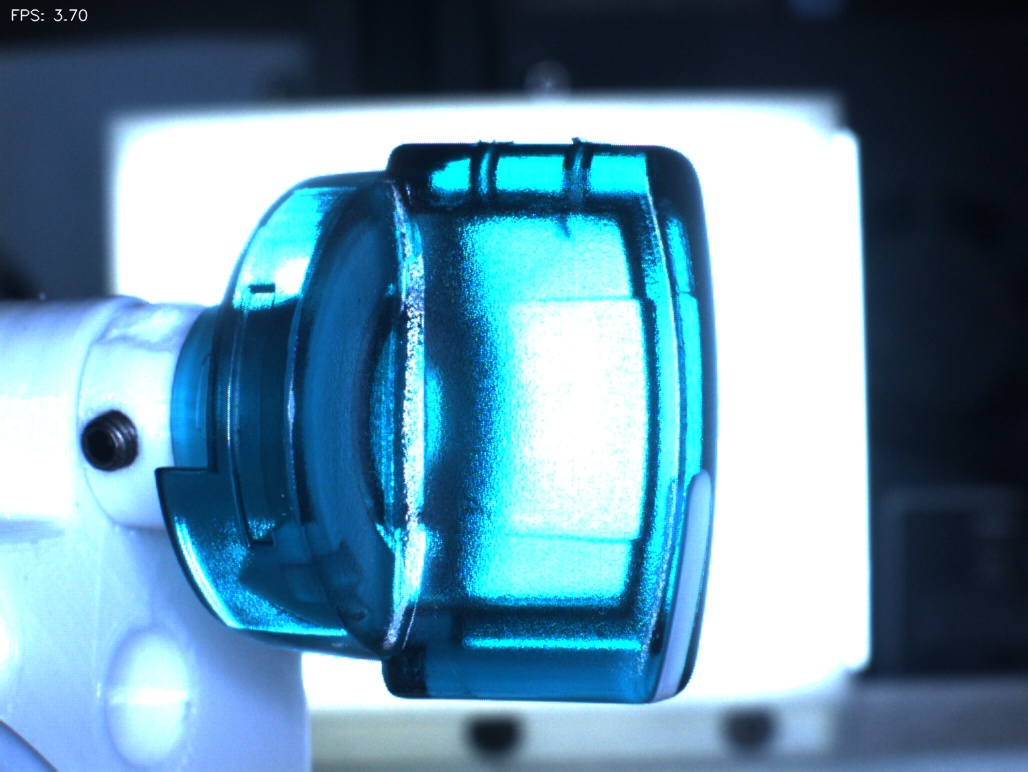Bulle: (531, 127, 619, 200)
